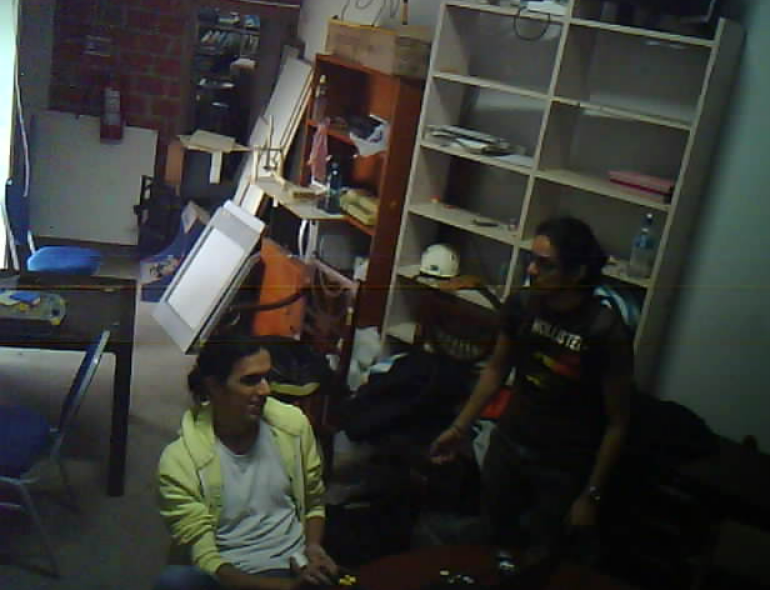person: (410, 207, 687, 551), (151, 323, 361, 590)
